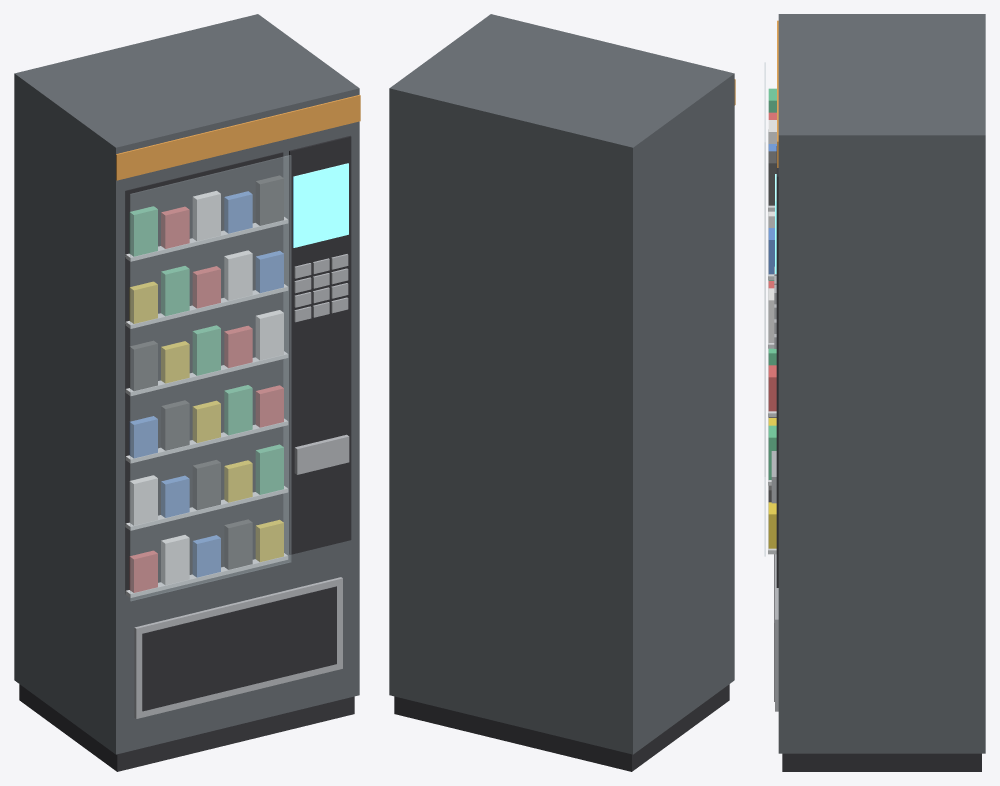
File: maquina-79x57.glb
3 views of the same model, side by side, from view 1: azimuth 30°, elevation 25°; view 2: azimuth 150°, elevation 25°; view 3: azimuth 270°, elevation 25° (orthographic).
Visible parts, largest first — view 1: corpo, vidro, fundo_vitrine, painel, retirada, faixa, base, retirada_moldura, tela, cartao, produto4_3, produto0_3 (+34 smaller); view 2: corpo, base; view 3: corpo, base, painel, vidro, retirada_moldura, produto5_4, produto2_4, produto0_4.
Part boxes in pixels (box(x1,y1,x2,y2)): corpo: box(14, 14, 359, 754); vidro: box(130, 155, 291, 600); fundo_vitrine: box(125, 152, 283, 593); painel: box(289, 135, 351, 554); retirada: box(142, 586, 336, 711); faixa: box(116, 95, 360, 180); base: box(19, 684, 354, 771); retirada_moldura: box(134, 577, 342, 718); tela: box(293, 163, 348, 247); cartao: box(294, 434, 349, 474); produto4_3: box(224, 250, 252, 300); produto0_3: box(224, 519, 252, 569); corpo: box(389, 14, 734, 754); base: box(394, 684, 729, 771); corpo: box(778, 14, 985, 753); base: box(782, 753, 981, 771); painel: box(776, 146, 778, 587); vidro: box(764, 62, 765, 556); retirada_moldura: box(775, 554, 778, 711); produto5_4: box(768, 151, 776, 205); produto2_4: box(768, 365, 776, 411); produto0_4: box(768, 502, 776, 548).
Bounding box in the file's own units: 0.79 × 1.94 × 0.61.
